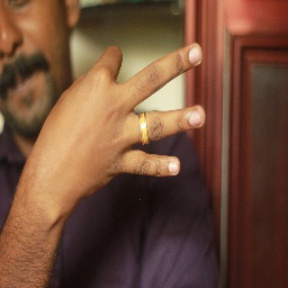K: (45, 41, 205, 189)
